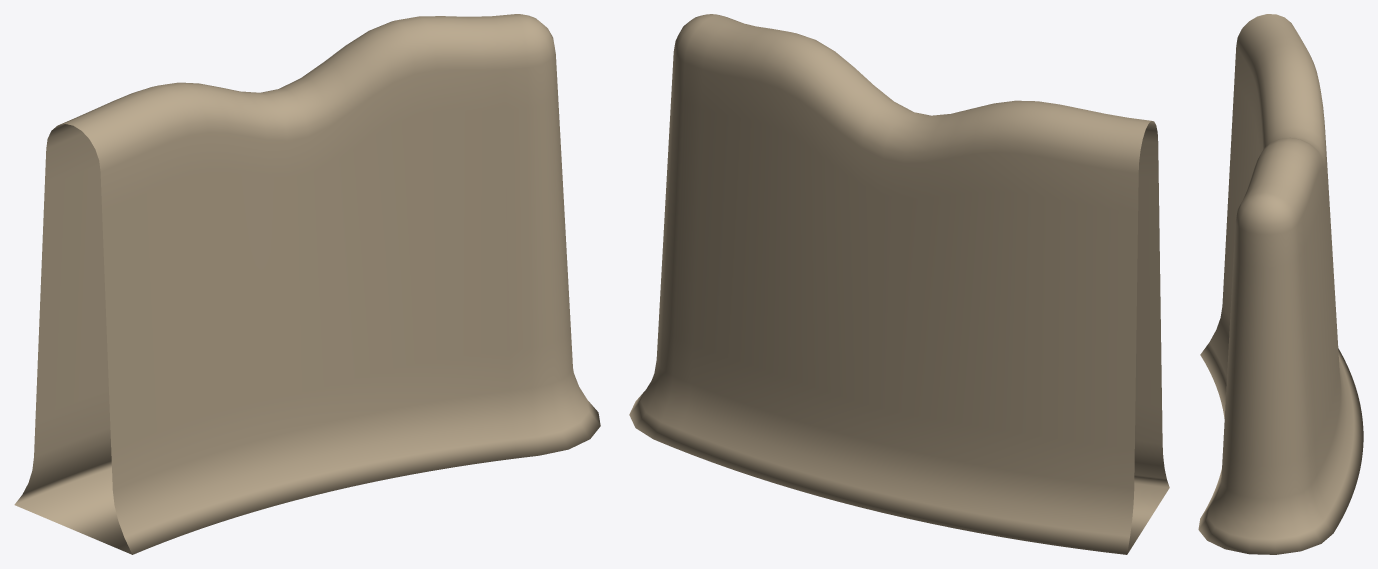
Rendered from KFB_Wall_curved_ring_r2_capA.r3.glb.
The picture shows the model from 3 angles, left to right: view 1: azimuth 30°, elevation 25°; view 2: azimuth 150°, elevation 25°; view 3: azimuth 270°, elevation 25°; orthographic projection. The views are drawn at different scales.
Parts seen in each view (by area): view 1: KFB_Wall_curved_ring_r2_capA; view 2: KFB_Wall_curved_ring_r2_capA; view 3: KFB_Wall_curved_ring_r2_capA.
Part boxes in pixels (x1,y1,x2,y2): KFB_Wall_curved_ring_r2_capA: (14, 14, 600, 554); KFB_Wall_curved_ring_r2_capA: (629, 14, 1169, 554); KFB_Wall_curved_ring_r2_capA: (1198, 14, 1363, 554).
Bounding box in the file's own units: 4.99 × 3.7 × 1.62.
